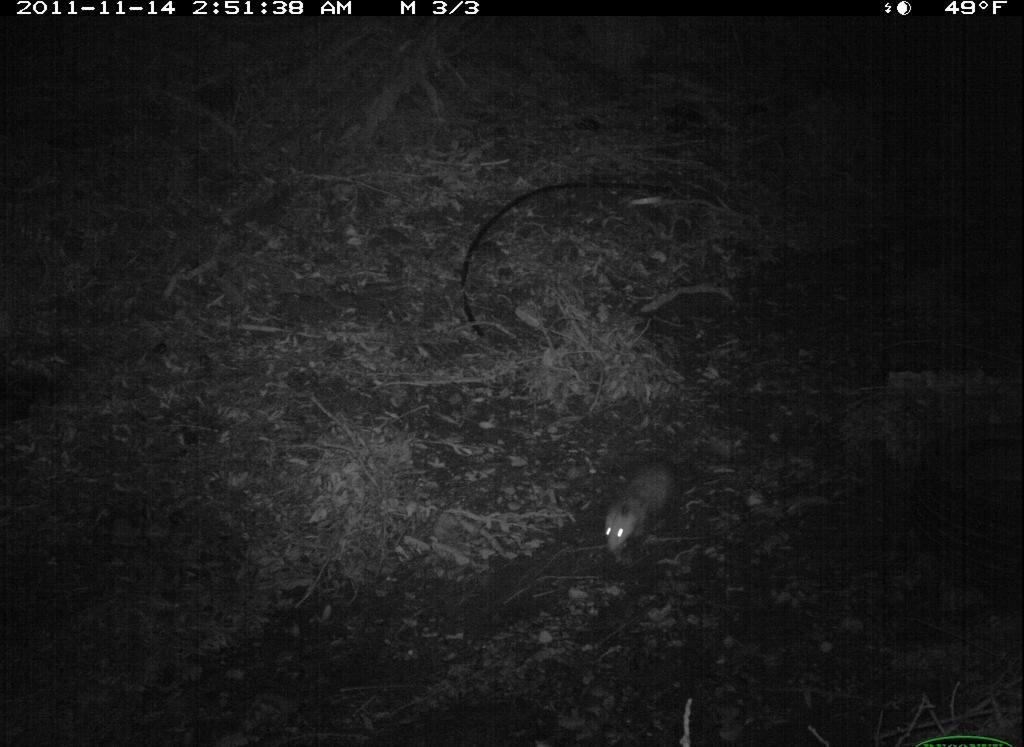opossum: (568, 423, 689, 609)
